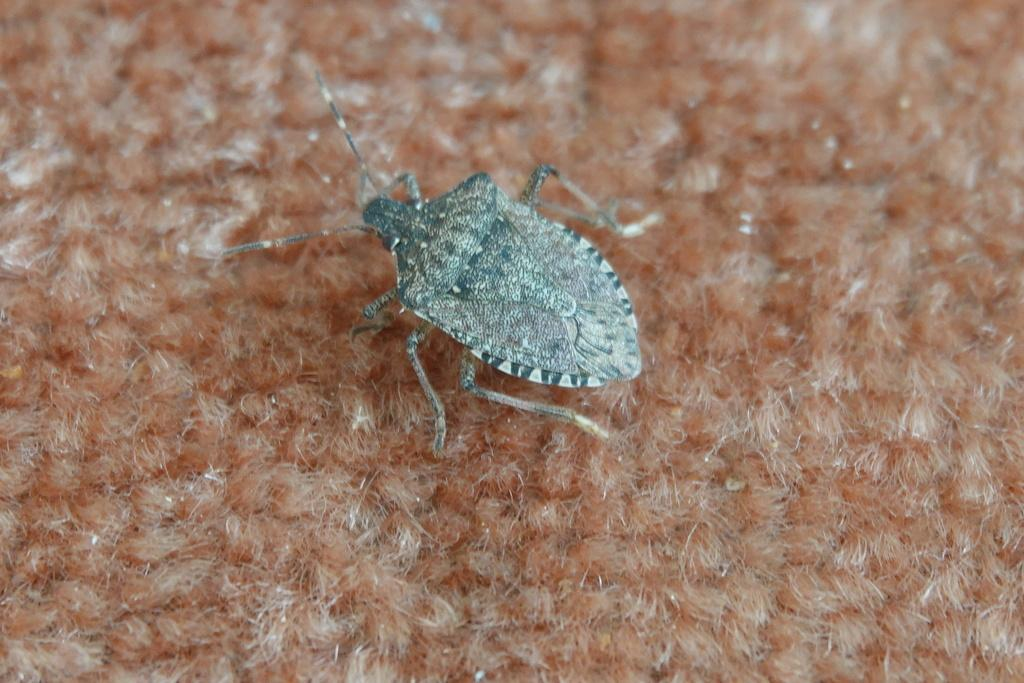stink_bugs: (180, 42, 707, 489)
